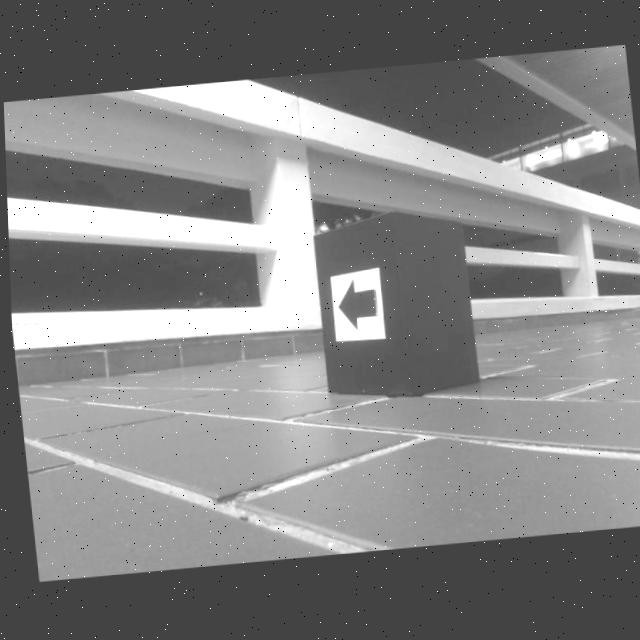LEFT: (336, 280, 375, 333)
